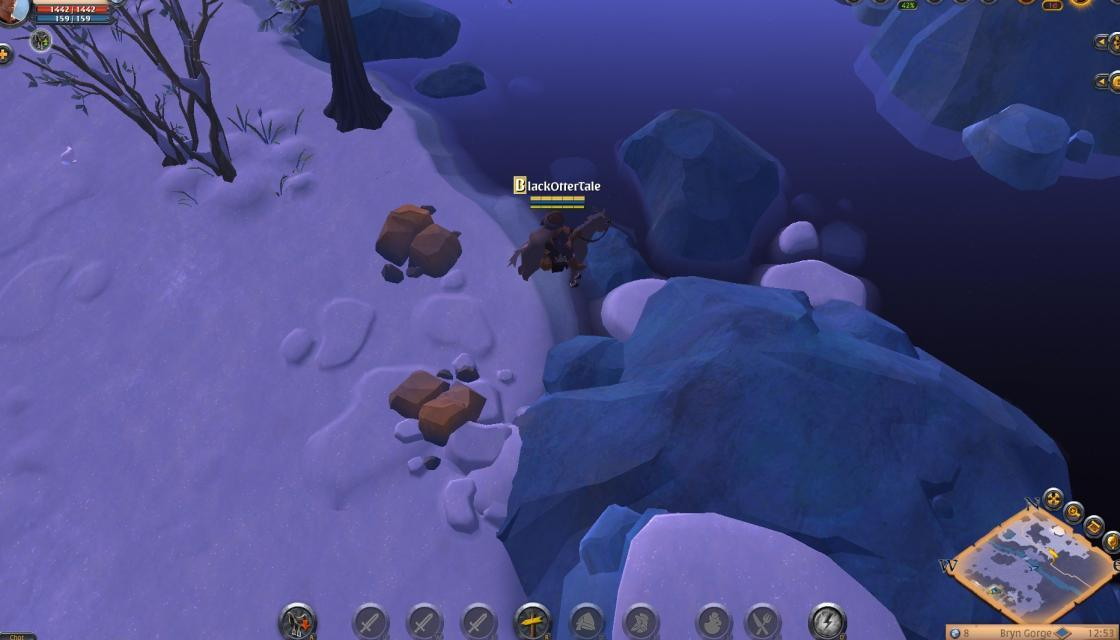limestone: (386, 366, 488, 449), (372, 199, 463, 285)
